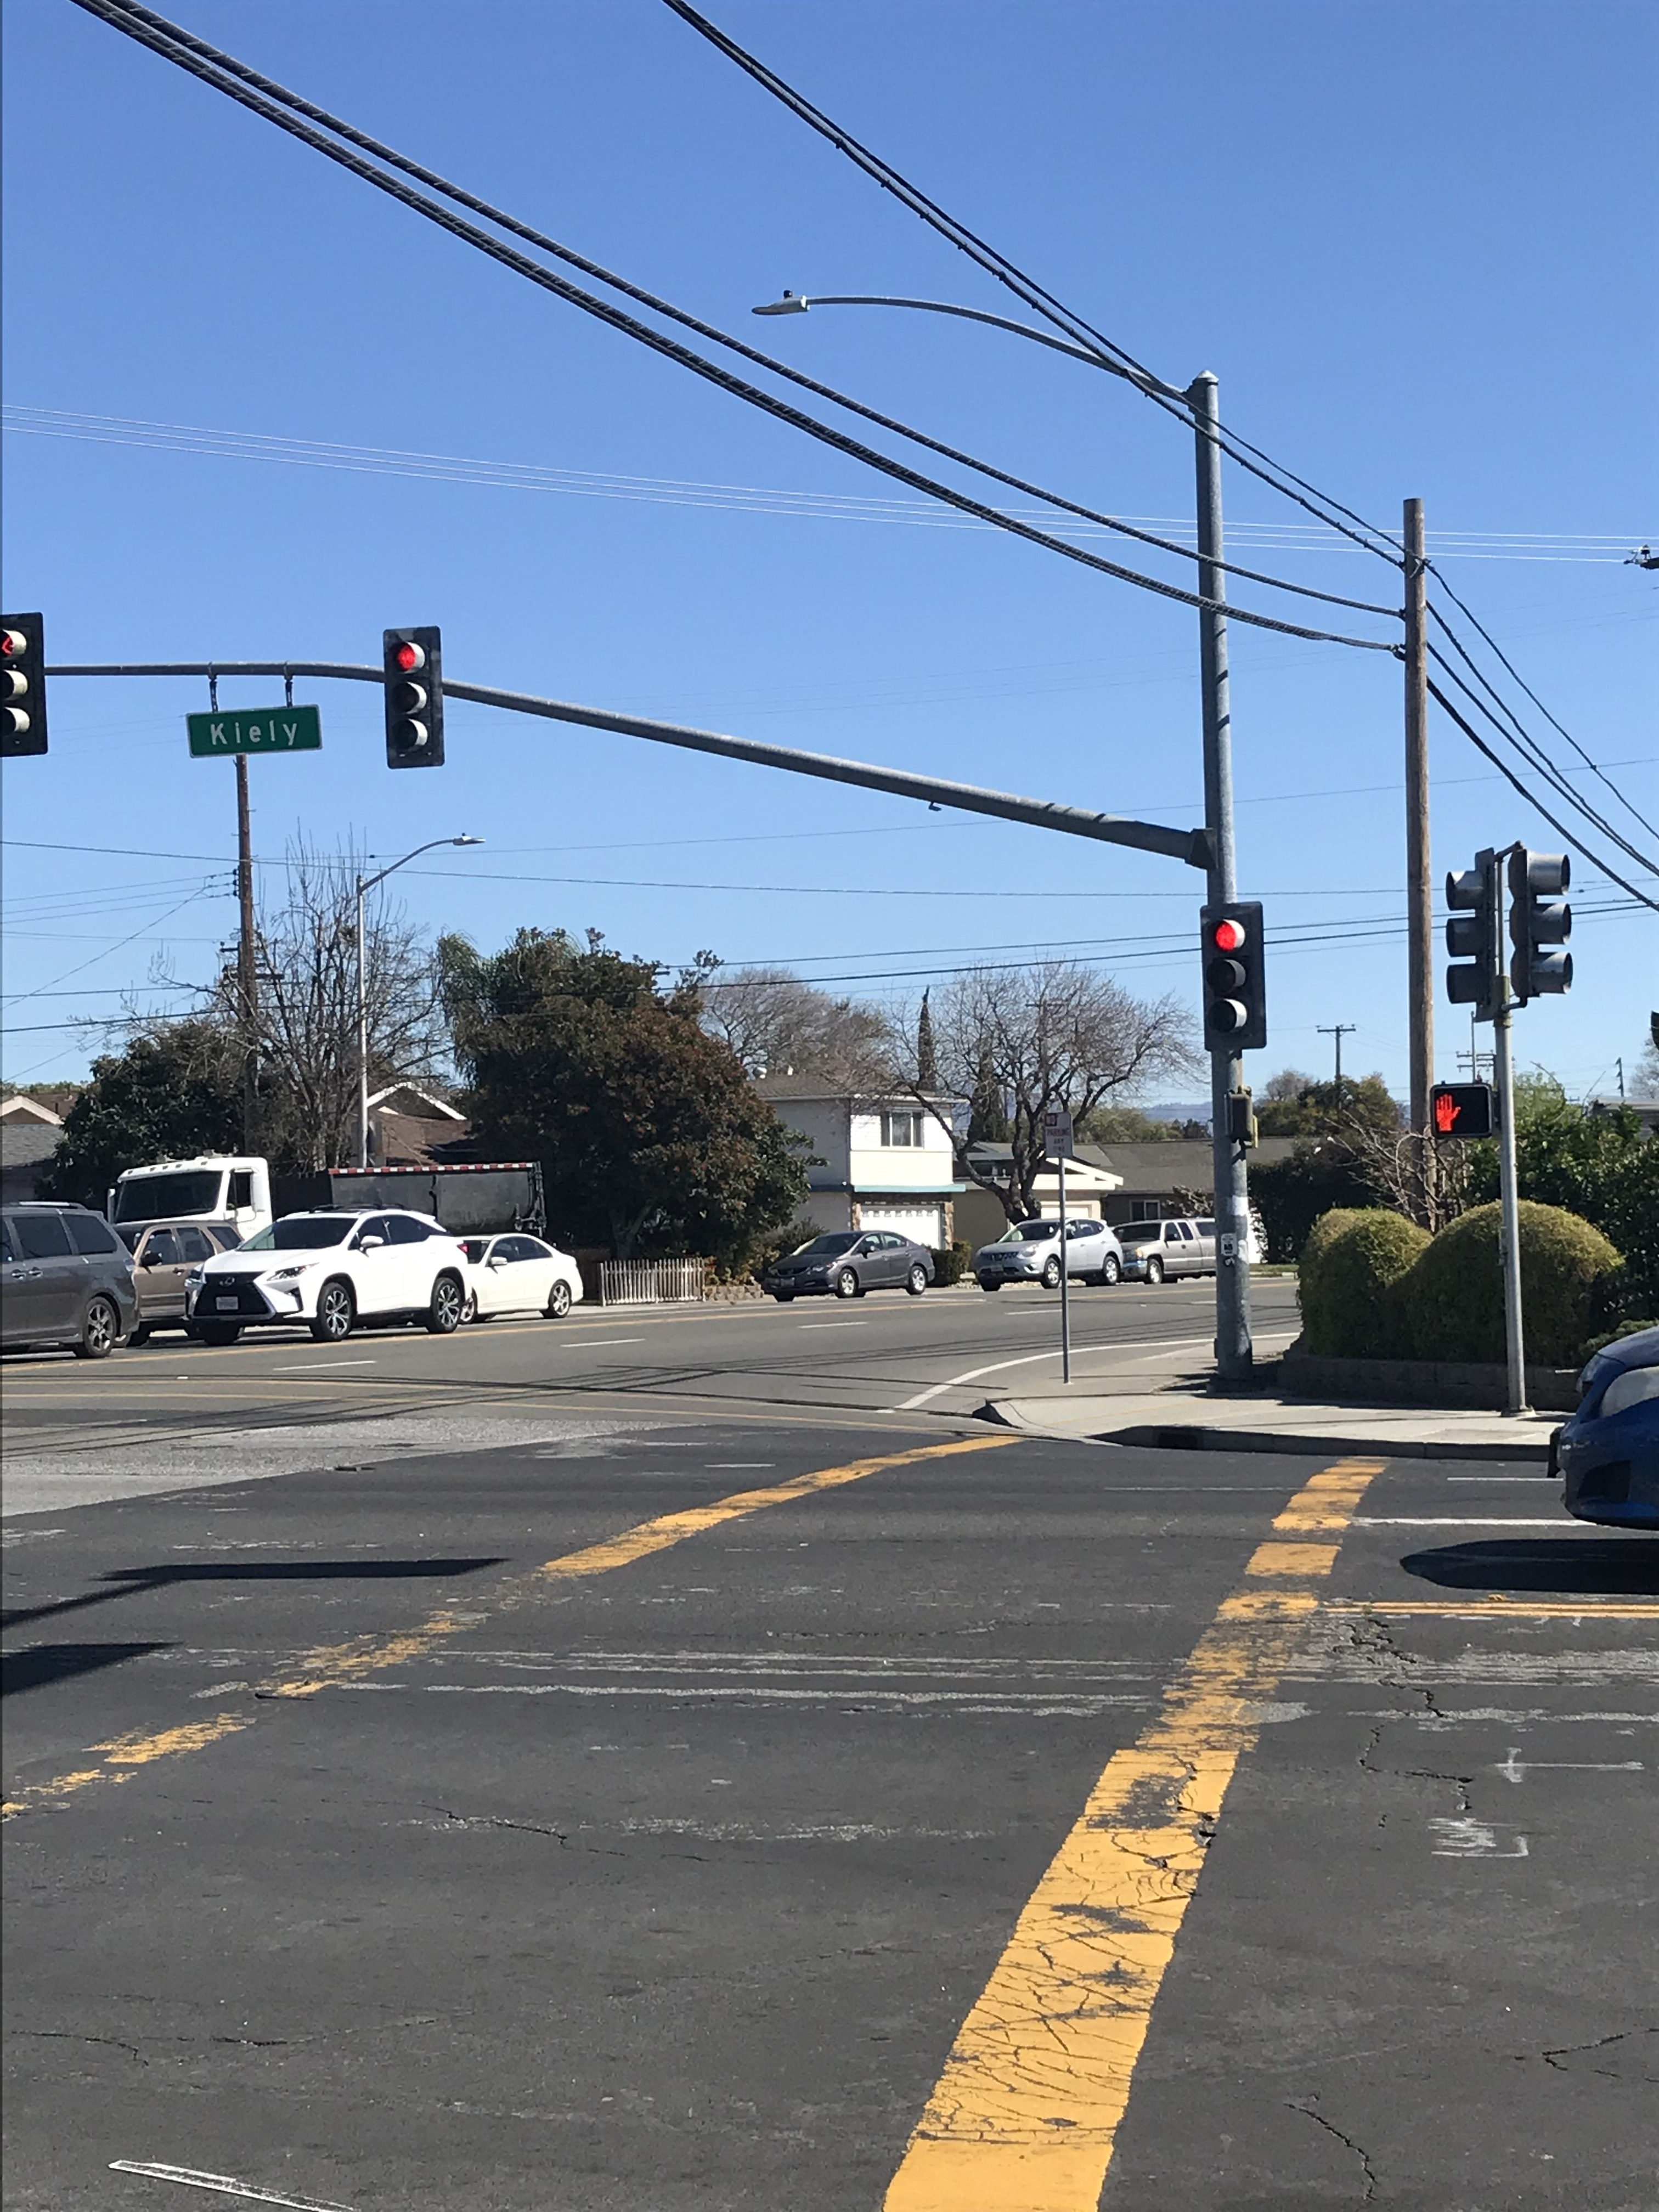red_light: (1204, 907, 1262, 1042), (389, 629, 437, 768)
